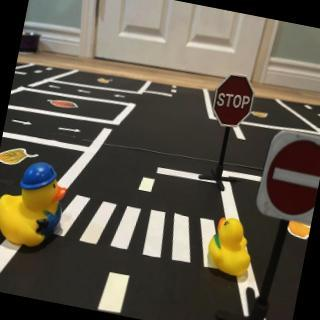duck_regular: (205, 217, 259, 282)
duck_specialty: (1, 156, 71, 255)
road_crosswalk: (51, 186, 233, 273)
road_oneway: (9, 113, 35, 130), (56, 123, 83, 137), (76, 86, 97, 98), (111, 93, 129, 102), (48, 83, 63, 92)
sign_noentry: (255, 127, 320, 226)
sign_stop: (211, 73, 257, 132)
